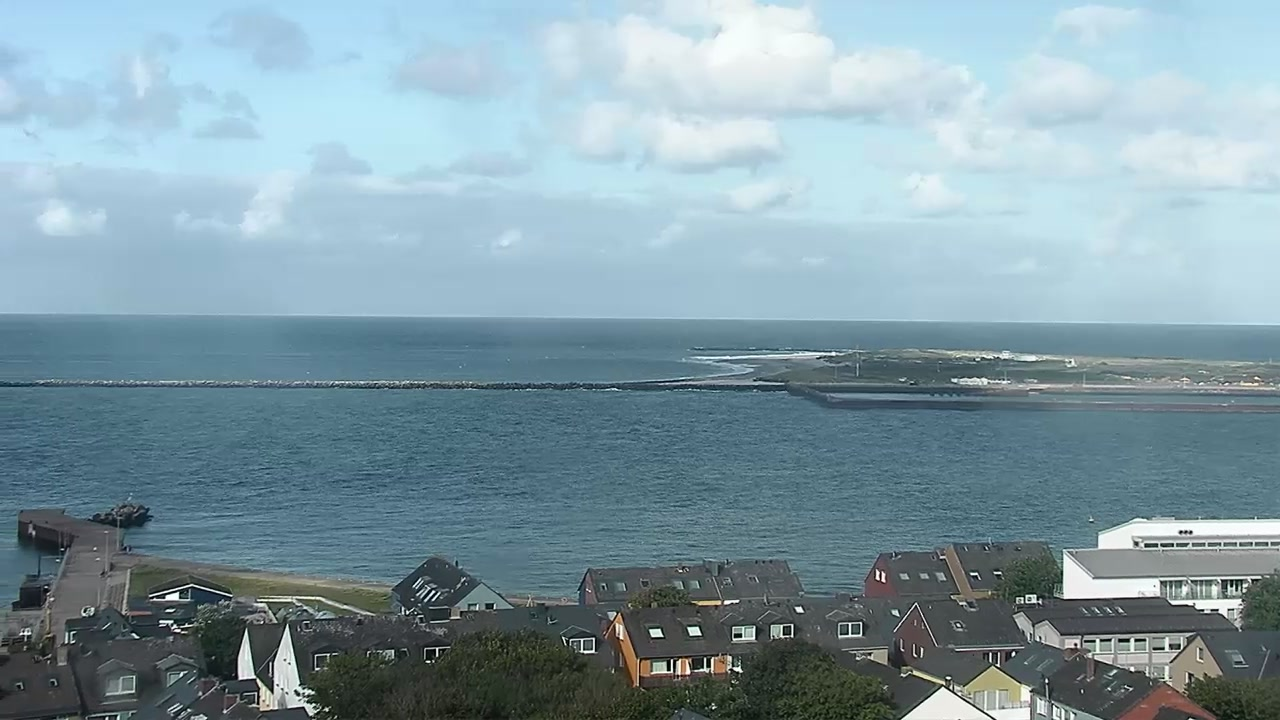land: (907, 378, 927, 386)
